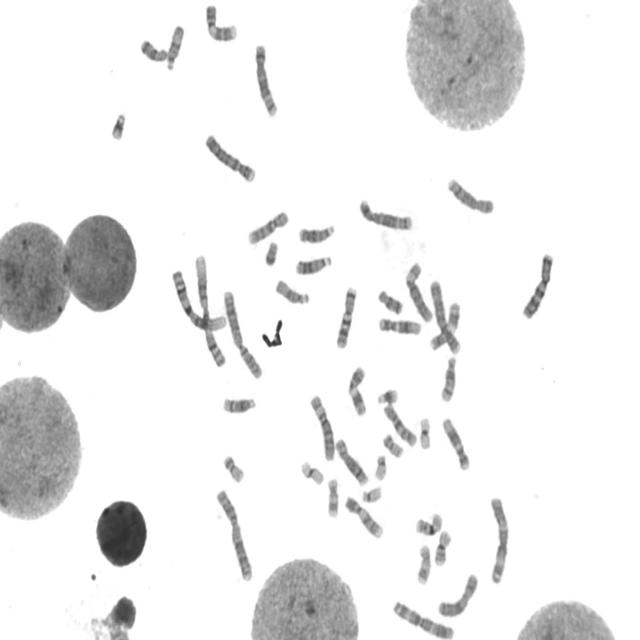A1: (191, 250, 227, 370), (168, 266, 228, 332)
A2: (220, 286, 264, 381), (213, 485, 255, 584)
A3: (390, 597, 456, 639), (486, 492, 511, 586)
B4: (202, 130, 257, 184), (428, 276, 462, 356)
B5: (252, 39, 280, 119), (356, 196, 414, 232)
C10: (245, 207, 290, 246), (382, 401, 418, 448)
C11: (427, 299, 461, 352), (346, 362, 368, 418)
C12: (440, 413, 472, 472), (376, 314, 423, 337)
C6: (402, 258, 434, 324), (307, 391, 336, 462)
C7: (519, 248, 556, 321), (333, 282, 358, 350)
C8: (445, 174, 496, 216), (334, 434, 369, 488)
C9: (342, 492, 385, 540), (202, 1, 238, 43)
D13: (296, 219, 336, 245), (292, 252, 332, 276)
D14: (438, 353, 458, 403), (220, 392, 257, 416)
D15: (273, 276, 311, 306), (164, 22, 186, 72)
E16: (412, 509, 444, 537), (432, 526, 452, 568)
E17: (414, 541, 432, 586), (324, 474, 341, 520)
E18: (137, 35, 169, 63), (375, 286, 404, 316)
F19: (298, 456, 325, 486), (416, 414, 433, 451)
F20: (220, 452, 246, 484), (380, 430, 405, 460)
G21: (108, 107, 128, 142), (374, 385, 400, 406)
G22: (372, 451, 388, 482), (359, 484, 383, 504)
X: (435, 569, 479, 619)
Y: (262, 238, 279, 268)
